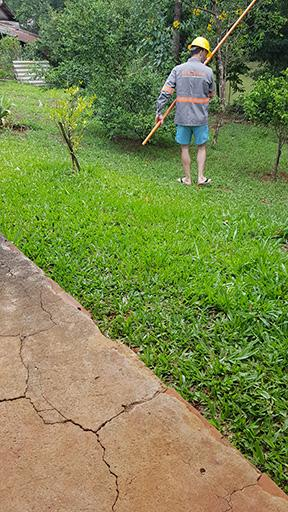Capacete: (187, 35, 212, 64)
Vara_Manobra: (139, 1, 257, 147)
